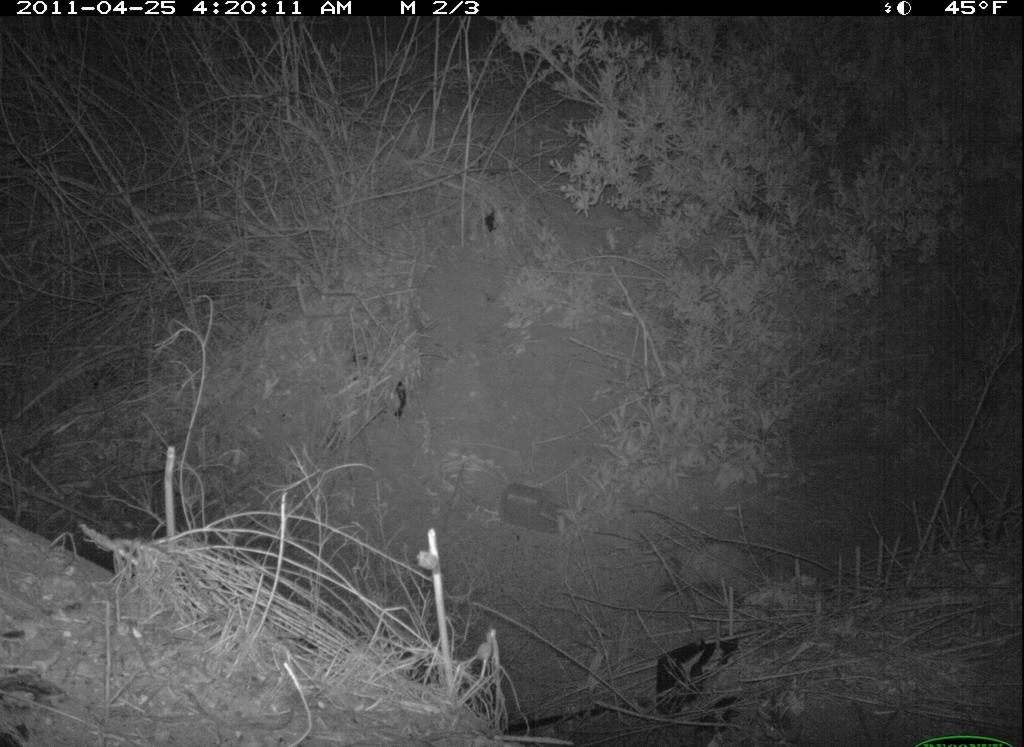opossum: (629, 518, 807, 605)
